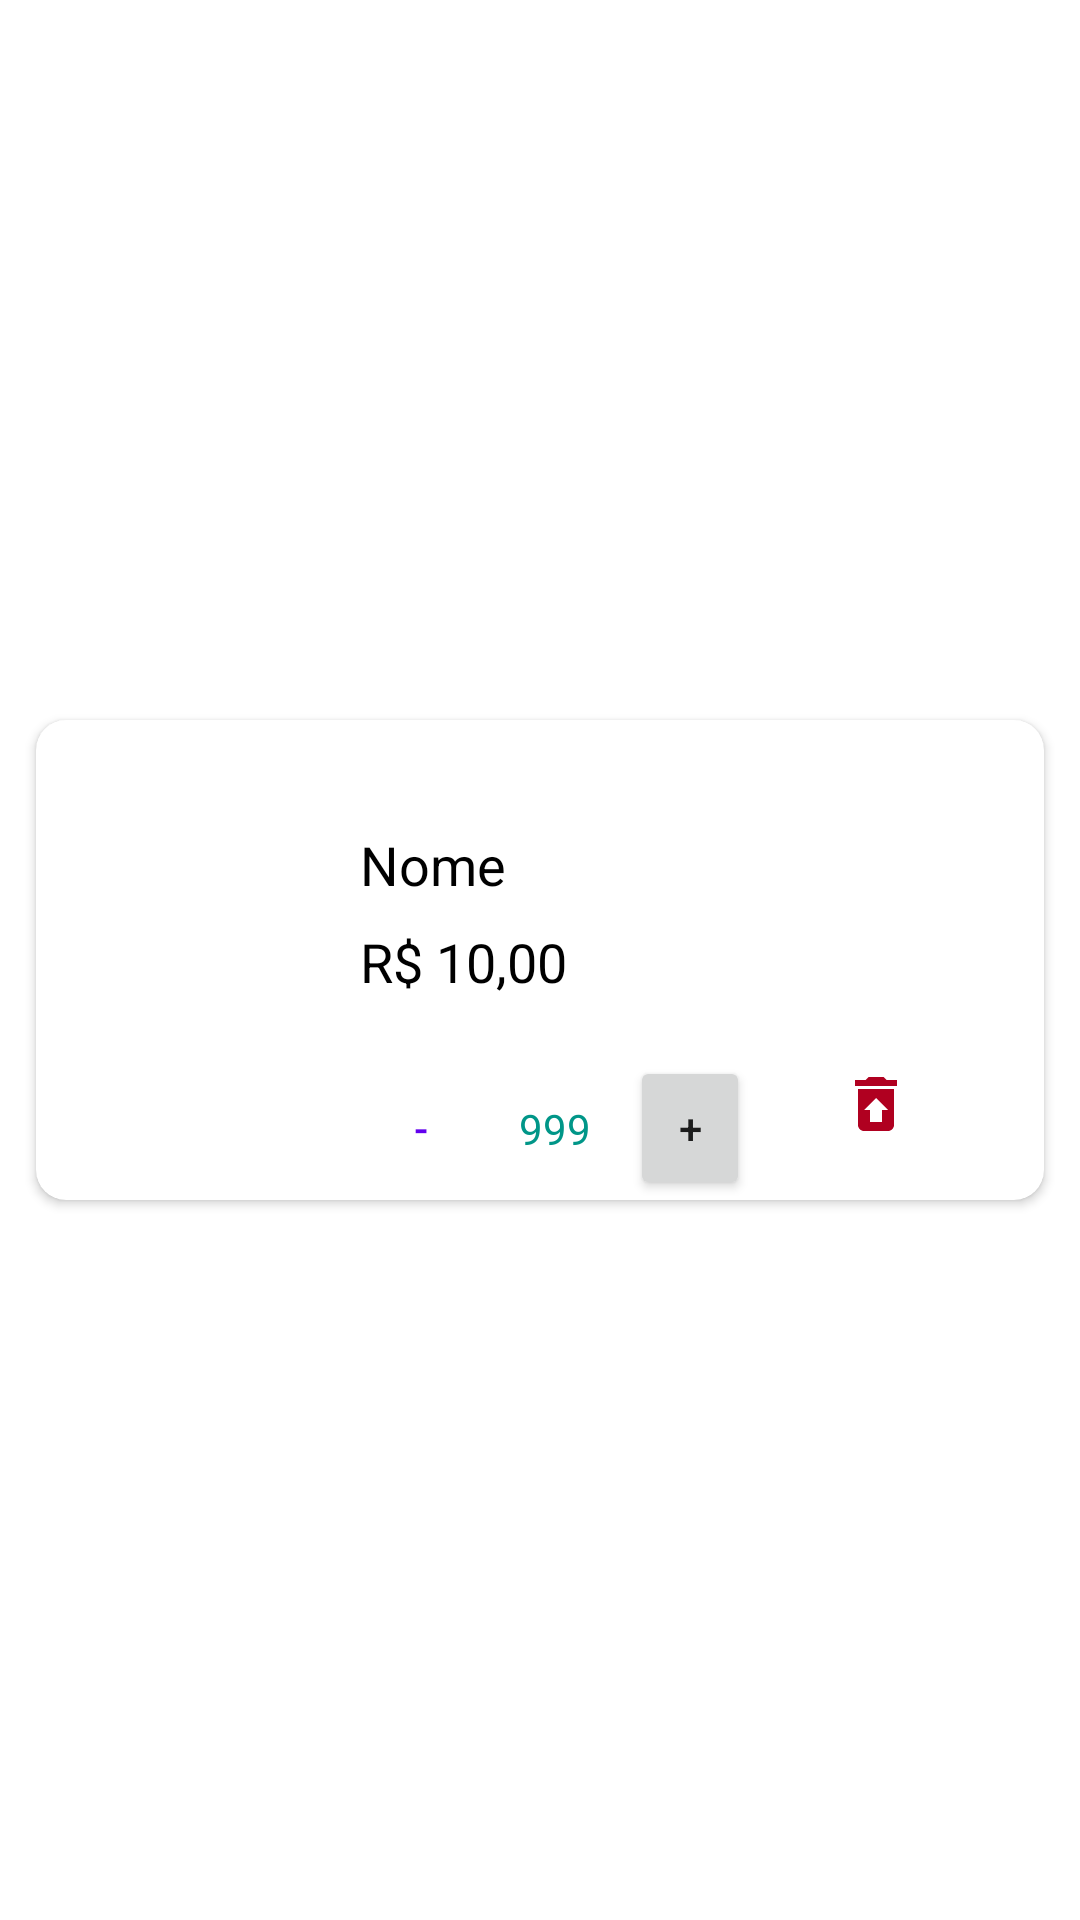

Named icons in this screenshot (1080*1920) and their bounding boxes, (x1, y1, x2, y2):
restore from trash: (855, 1077, 897, 1131)
